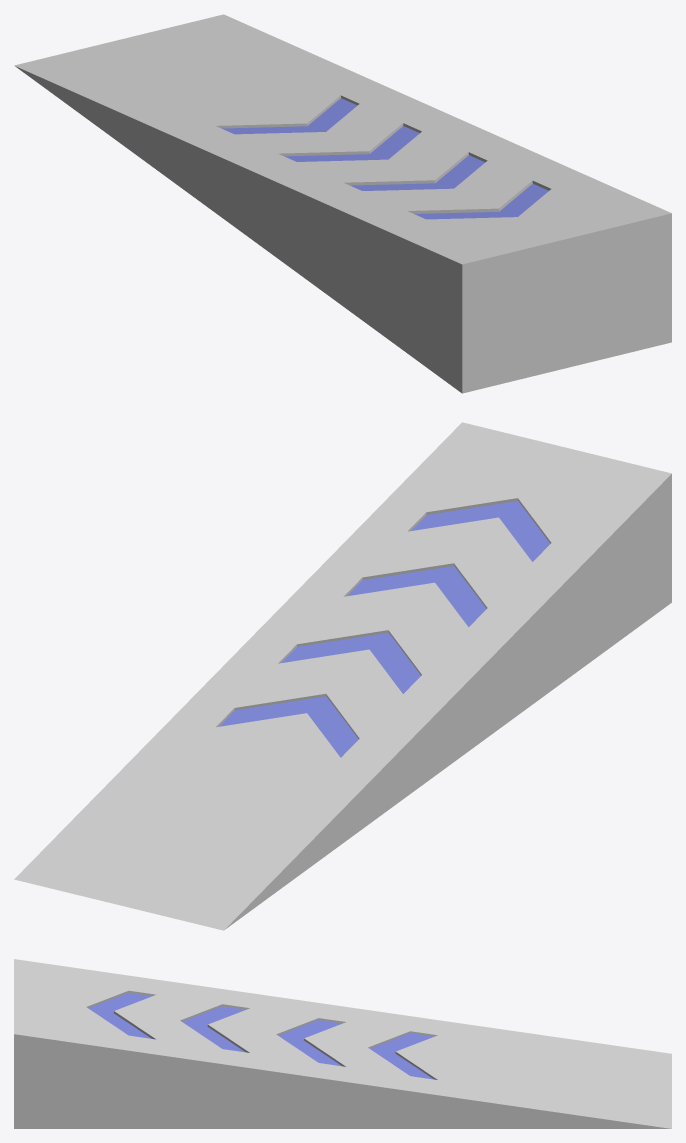
The model's file is Springboard.fbx.
3 views of the same model, one above another, from view 1: azimuth 30°, elevation 25°; view 2: azimuth 150°, elevation 25°; view 3: azimuth 270°, elevation 25° (orthographic). The views are drawn at different scales.
Visible parts, largest first — view 1: Springboard; view 2: Springboard; view 3: Springboard.
Boxes of the visible parts, x1,y1,x2,y2 form: Springboard: (14,14,671,393); Springboard: (14,422,671,930); Springboard: (14,959,671,1128).
Bounding box in the file's own units: 170 × 100 × 629.
